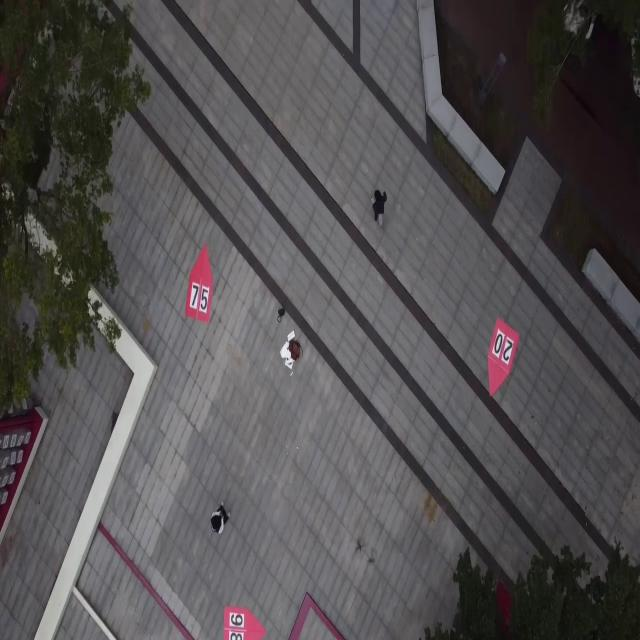-sign-: (487, 316, 519, 398), (184, 242, 213, 324), (223, 604, 267, 640)
